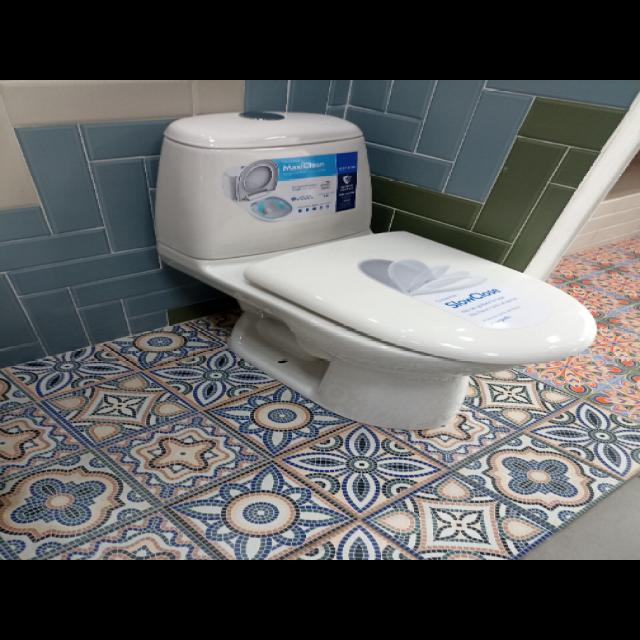toilet: (149, 103, 603, 436)
